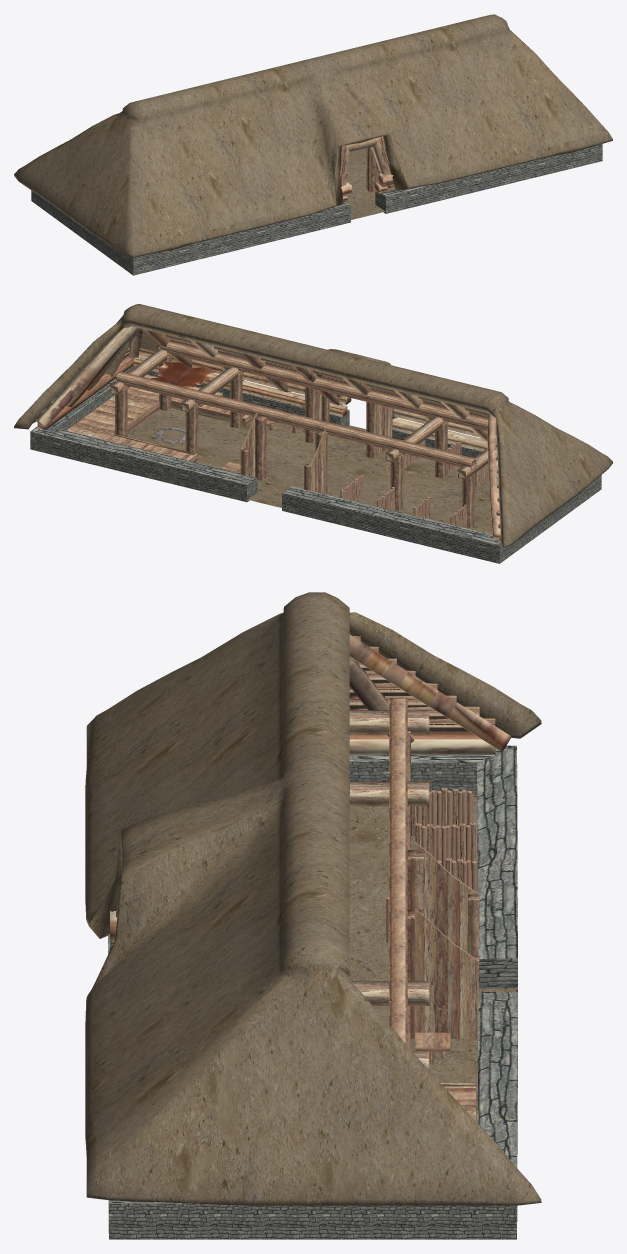
File: langhaus.glb
The picture shows the model from 3 angles, top to bottom: view 1: azimuth 30°, elevation 25°; view 2: azimuth 150°, elevation 25°; view 3: azimuth 270°, elevation 25°; orthographic projection. The views are drawn at different scales.
Visible parts, largest first — view 1: Dach.001, Rasenwand, Boden, Eingang Balken rechts, Pfahl.010; view 2: Dach.001, Rasenwand, Boden, Dachleisten, Dachbalken.001, Dachbalken.002, Balken1, Bank, BalkenKlein, Balken2, Kuhfell, BrettereingangLQ.002 (+17 smaller); view 3: Dach.001, Rasenwand, Boden, Dachbalken.001, BrettereingangLQ.003, Dachleisten, BrettereingangLQ.002, Balken1, Dachbalken.004, BalkenKlein, Dachbalken.005, Dachbalken.003 (+5 smaller).
Boxes of the visible parts, x1,y1,x2,y2 form: Dach.001: (14, 14, 612, 257); Rasenwand: (31, 144, 602, 275); Boden: (346, 148, 384, 219); Eingang Balken rechts: (371, 136, 391, 175); Pfahl.010: (366, 148, 377, 192); Dach.001: (14, 304, 612, 547); Rasenwand: (30, 365, 601, 563); Boden: (127, 408, 492, 534); Dachleisten: (35, 326, 500, 539); Dachbalken.001: (115, 371, 476, 469); Dachbalken.002: (159, 341, 488, 431); Balken1: (37, 354, 500, 540); Bank: (66, 386, 158, 440); BalkenKlein: (40, 331, 500, 528); Balken2: (139, 348, 479, 437); Kuhfell: (150, 361, 217, 388); BrettereingangLQ.002: (309, 429, 325, 494); Dach.001: (85, 592, 541, 1205); Rasenwand: (108, 745, 517, 1239); Boden: (108, 793, 515, 1233); Dachbalken.001: (389, 698, 407, 1045); BrettereingangLQ.003: (414, 908, 477, 1038); Dachleisten: (349, 634, 511, 751); BrettereingangLQ.002: (415, 841, 477, 952); Balken1: (132, 731, 495, 1201); Dachbalken.004: (349, 781, 429, 806); BalkenKlein: (349, 636, 495, 727); Dachbalken.005: (349, 710, 429, 734); Dachbalken.003: (352, 981, 429, 1005).
Size of the model in its own units: 20.96 by 5.1 by 8.38.
Materials: 9 (9 with a texture image).
